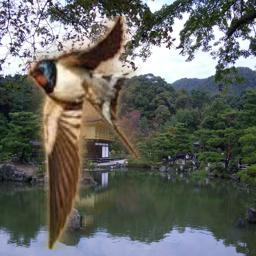Swallow: (27, 16, 166, 250)
